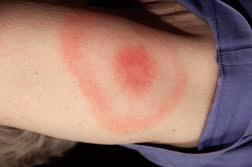Tick: (60, 14, 187, 138)
